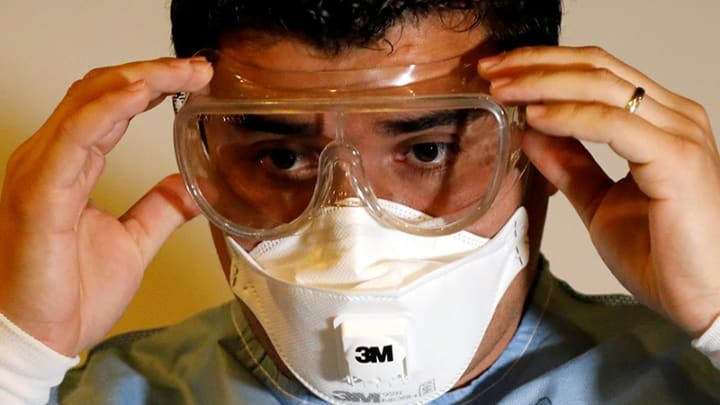Goggles: (172, 95, 523, 242)
with_mask: (222, 129, 531, 404)
